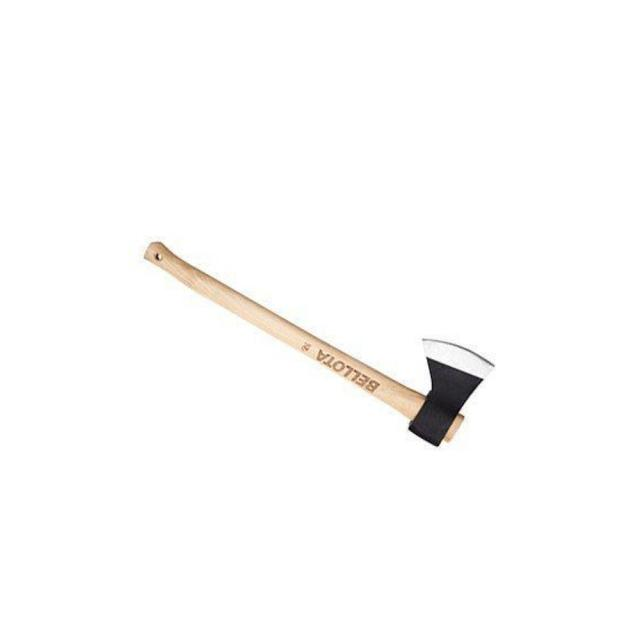Kapak: (132, 216, 488, 458)
